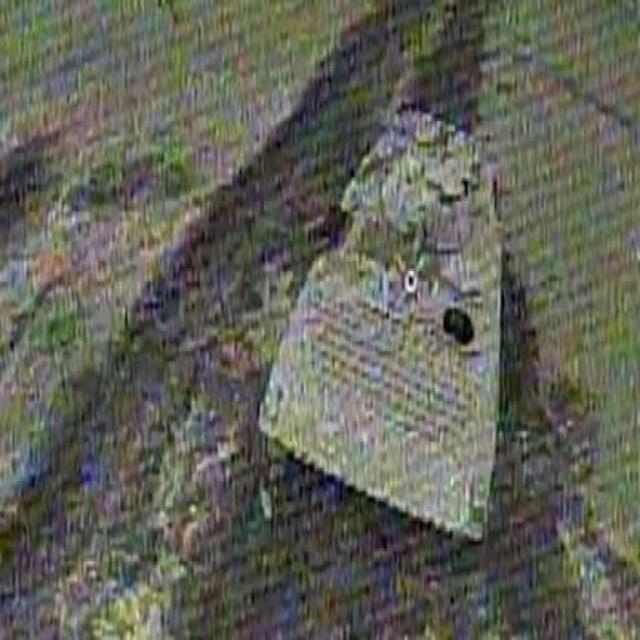APC-IFV: (257, 95, 514, 549)
